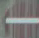No entry: (5, 0, 38, 33)
